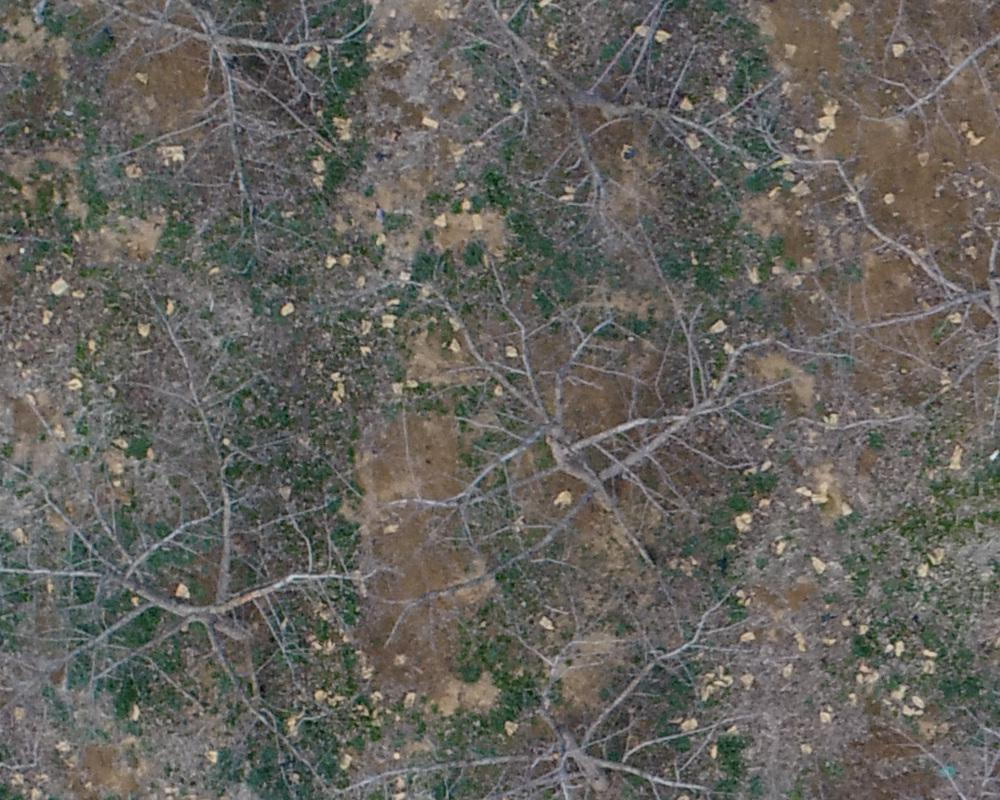apple: (10, 284, 355, 701), (400, 266, 771, 623), (799, 83, 990, 463), (370, 611, 751, 790), (451, 10, 786, 208), (20, 10, 370, 179)
